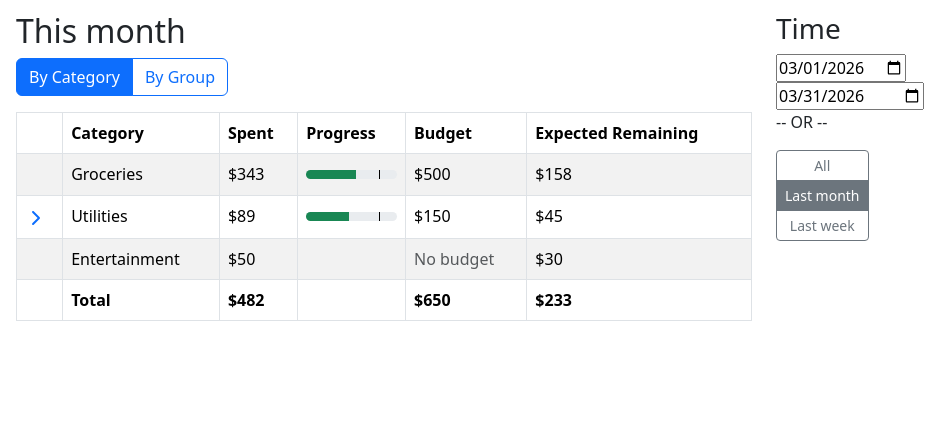
Test: expands row to show upcoming bills
Expected: the text "Utilities" is shown, [63,196,219,239]
Expected: the text "Electricity" is not shown
# Click the expand button on the Utilities row
Click the button named "Expand Utilities" at (35, 218), box [25,206,45,230]
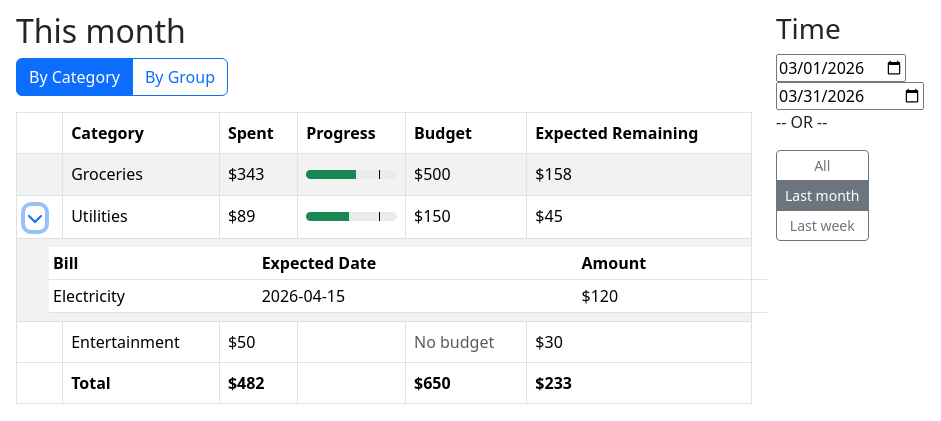
Expected: the text "Electricity" is shown, [49,280,258,313]
Expected: the text "2026-04-15" is shown, [258,280,578,313]
